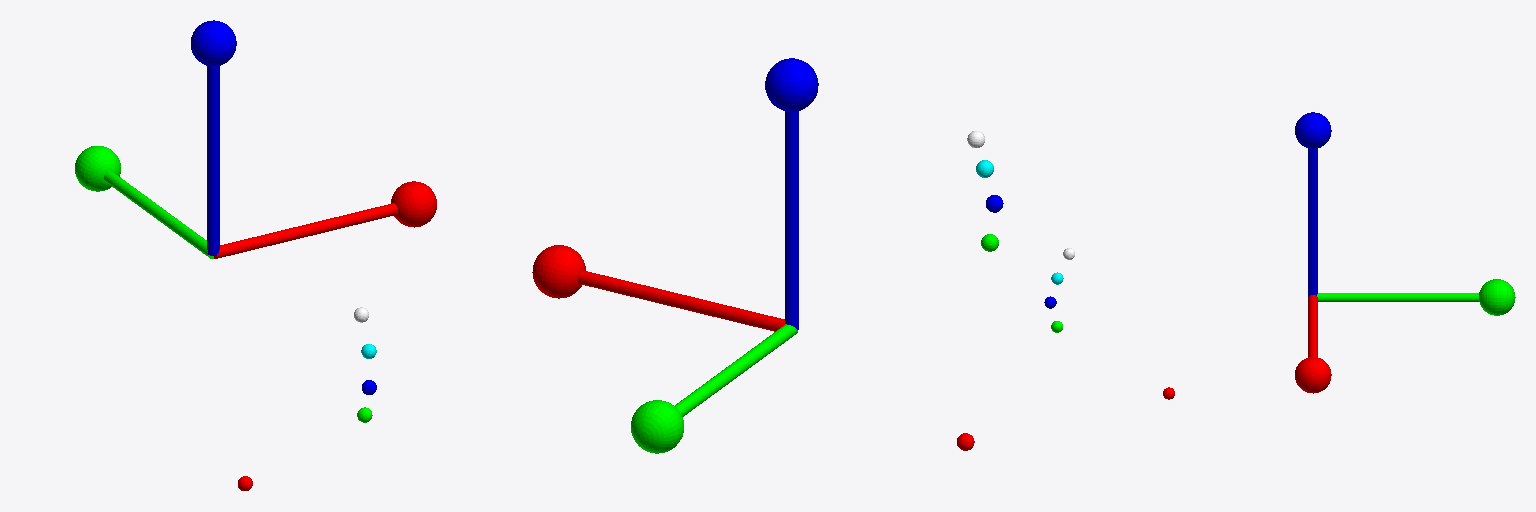
URDF robot description (inspire_hand_right):
<robot name="inspire_hand_right">

  <mujoco>
    <compiler meshdir="./meshes" discardvisual="false" />
  </mujoco>

  <link name="R_hand_base_link">
    <inertial>
      <origin xyz="-0.0025264 -0.066047 0.0019598" rpy="0 0 0" />
      <mass value="0.14143" />
      <inertia ixx="0.00012281" ixy="2.1711E-06" ixz="1.7709E-06" iyy="8.3832E-05" iyz="-1.6551E-06" izz="7.6663E-05" />
    </inertial>
    <visual>
      <origin xyz="0 0 0" rpy="0 0 0" />
      <geometry>
        <mesh filename="./meshes/R_hand_base_link.STL" />
      </geometry>
      <material name="">
        <color rgba="1.0 1.0 1.0 1" />
      </material>
    </visual>
    <collision>
      <origin xyz="0 0 0" rpy="0 0 0" />
      <geometry>
        <mesh filename="./meshes/R_hand_base_link.STL" />
      </geometry>
    </collision>
    <visual>
      <origin xyz="0.075 0 0" rpy="0 -1.5708 0"/>
      <geometry>
        <cylinder length="0.15" radius="0.004"/>
      </geometry>
      <material name="red">
        <color rgba="1 0 0 1"/>
      </material>
    </visual>
    <visual>
      <origin xyz="0.15 0 0" rpy="0 -1.5708 0"/>
      <geometry>
        <sphere radius="0.015"/>
      </geometry>
      <material name="red">
        <color rgba="1 0 0 1"/>
      </material>
    </visual>

    <visual>
      <origin xyz="0 0.075 0" rpy="1.5708 0 0"/>
      <geometry>
        <cylinder length="0.15" radius="0.004"/>
      </geometry>
      <material name="green">
        <color rgba="0 1 0 1"/>
      </material>
    </visual>
    <visual>
      <origin xyz="0 0.15 0" rpy="1.5708 0 0"/>
      <geometry>
        <sphere radius="0.015"/>
      </geometry>
      <material name="green">
        <color rgba="0 1 0 1"/>
      </material>
    </visual>

    <visual>
      <origin xyz="0 0 0.075" rpy="0 0 0"/>
      <geometry>
        <cylinder length="0.15" radius="0.004"/>
      </geometry>
      <material name="blue">
        <color rgba="0 0 1 1"/>
      </material>
    </visual>
    <visual>
      <origin xyz="0 0 0.15" rpy="0 0 0"/>
      <geometry>
        <sphere radius="0.015"/>
      </geometry>
      <material name="blue">
        <color rgba="0 0 1 1"/>
      </material>
    </visual>
  </link>

  <link name="R_thumb_proximal_base">
    <inertial>
      <origin xyz="-0.0048064 0.0009382 -0.00757" rpy="0 0 0" />
      <mass value="0.0018869" />
      <inertia ixx="5.816E-08" ixy="1.4539E-08" ixz="4.491E-09" iyy="7.9161E-08" iyz="-1.8727E-09" izz="6.7433E-08" />
    </inertial>
    <visual>
      <origin xyz="0 0 0" rpy="0 0 0" />
      <geometry>
        <mesh filename="./meshes/Link11_R.STL" />
      </geometry>
      <material name="">
        <color rgba="1.0 1.0 1.0 1" />
      </material>
    </visual>
    <collision>
      <origin xyz="0 0 0" rpy="0 0 0" />
      <geometry>
        <mesh filename="./meshes/Link11_R.STL" />
      </geometry>
    </collision>
  </link>

  <joint name="R_thumb_proximal_yaw_joint" type="revolute">
    <origin xyz="-0.01696 -0.0691 -0.02045" rpy="1.5708 -1.5708 0" />
    <parent link="R_hand_base_link" />
    <child link="R_thumb_proximal_base" />
    <axis xyz="0 0 -1" />
    <limit lower="-0.1" upper="1.3" effort="1" velocity="0.5" />
  </joint>

  <link name="R_thumb_proximal">
    <inertial>
      <origin xyz="0.021932 0.012785 -0.0080386" rpy="0 0 0" />
      <mass value="0.0066075" />
      <inertia ixx="1.5686E-06" ixy="-7.8296E-07" ixz="8.9143E-10" iyy="1.7353E-06" iyz="-1.0191E-09" izz="2.786E-06" />
    </inertial>
    <visual>
      <origin xyz="0 0 0" rpy="0 0 0" />
      <geometry>
        <mesh filename="./meshes/Link12_R.STL" />
      </geometry>
      <material name="">
        <color rgba="1.0 1.0 1.0 1" />
      </material>
    </visual>
    <collision>
      <origin xyz="0 0 0" rpy="0 0 0" />
      <geometry>
        <mesh filename="./meshes/Link12_R.STL" />
      </geometry>
    </collision>
  </link>

  <joint name="R_thumb_proximal_pitch_joint" type="revolute">
    <origin xyz="-0.0088099 0.010892 -0.00925" rpy="1.5708 0 2.8587" />
    <parent link="R_thumb_proximal_base" />
    <child link="R_thumb_proximal" />
    <axis xyz="0 0 1" />
    <limit lower="0.0" upper="0.5" effort="1" velocity="0.5" />
  </joint>

  <link name="R_thumb_intermediate">
    <inertial>
      <origin xyz="0.0095544 -0.0016282 -0.0071997" rpy="0 0 0" />
      <mass value="0.0037847" />
      <inertia ixx="3.6981E-07" ixy="-9.8581E-08" ixz="-4.7469E-12" iyy="3.2394E-07" iyz="1.0939E-12" izz="4.6531E-07" />
    </inertial>
    <visual>
      <origin xyz="0 0 0" rpy="0 0 0" />
      <geometry>
        <mesh filename="./meshes/Link13_R.STL" />
      </geometry>
      <material name="">
        <color rgba="1.0 1.0 1.0 1" />
      </material>
    </visual>
    <collision>
      <origin xyz="0 0 0" rpy="0 0 0" />
      <geometry>
        <mesh filename="./meshes/Link13_R.STL" />
      </geometry>
    </collision>
  </link>

  <joint name="R_thumb_intermediate_joint" type="revolute">
    <origin xyz="0.04407 0.034553 -0.0008" rpy="0 0 0" />
    <parent link="R_thumb_proximal" />
    <child link="R_thumb_intermediate" />
    <axis xyz="0 0 1" />
    <limit lower="0" upper="0.8" effort="1" velocity="0.5" />
    <mimic joint="R_thumb_proximal_pitch_joint" multiplier="1.6" offset="0" />
  </joint>

  <link name="R_thumb_distal">
    <inertial>
      <origin xyz="0.0092888 0.0049529 -0.0060033" rpy="0 0 0" />
      <mass value="0.0033441" />
      <inertia ixx="1.3632E-07" ixy="-5.6788E-08" ixz="-9.2764E-11" iyy="1.4052E-07" iyz="-1.2283E-10" izz="2.0026E-07" />
    </inertial>
    <visual>
      <origin xyz="0 0 0" rpy="0 0 0" />
      <geometry>
        <mesh filename="./meshes/Link14_R.STL" />
      </geometry>
      <material name="">
        <color rgba="1.0 1.0 1.0 1" />
      </material>
    </visual>
    <collision>
      <origin xyz="0 0 0" rpy="0 0 0" />
      <geometry>
        <mesh filename="./meshes/Link14_R.STL" />
      </geometry>
    </collision>
  </link>

  <joint name="R_thumb_distal_joint" type="revolute">
    <origin xyz="0.020248 0.010156 -0.0012" rpy="0 0 0" />
    <parent link="R_thumb_intermediate" />
    <child link="R_thumb_distal" />
    <axis xyz="0 0 1" />
    <limit lower="0" upper="1.2" effort="1" velocity="0.5" />
    <mimic joint="R_thumb_proximal_pitch_joint" multiplier="2.4" offset="0" />
  </joint>

  <link name="R_thumb_tip">
    <visual>
      <origin xyz="0 0 0" rpy="0 0 0" />
      <geometry>
        <sphere radius="0.005"/>
      </geometry>
      <material name="red">
        <color rgba="1 0 0 1" />
      </material>
    </visual>
  </link>
  <joint name="R_thumb_tip_joint" type="fixed">
    <parent link="R_thumb_distal"/>
    <child link="R_thumb_tip"/>
    <origin rpy="0 0 0" xyz="0.015 0.013 -0.004"/>
  </joint>

  <link name="R_index_proximal">
    <inertial>
      <origin xyz="0.0012259 0.011942 -0.0060001" rpy="0 0 0" />
      <mass value="0.0042403" />
      <inertia ixx="6.6232E-07" ixy="-1.5775E-08" ixz="1.8515E-12" iyy="2.1146E-07" iyz="-5.0828E-12" izz="6.9398E-07" />
    </inertial>
    <visual>
      <origin xyz="0 0 0" rpy="0 0 0" />
      <geometry>
        <mesh filename="./meshes/Link15_R.STL" />
      </geometry>
      <material name="">
        <color rgba="1.0 1.0 1.0 1" />
      </material>
    </visual>
    <collision>
      <origin xyz="0 0 0" rpy="0 0 0" />
      <geometry>
        <mesh filename="./meshes/Link15_R.STL" />
      </geometry>
    </collision>
  </link>

  <joint name="R_index_proximal_joint" type="revolute">
    <origin xyz="0.00028533 -0.13653 -0.032268" rpy="-3.1067 0 0" />
    <parent link="R_hand_base_link" />
    <child link="R_index_proximal" />
    <axis xyz="0 0 1" />
    <limit lower="0" upper="1.7" effort="1" velocity="0.5" />
  </joint>

  <link name="R_index_intermediate">
    <inertial>
      <origin xyz="0.0019697 0.019589 -0.005" rpy="0 0 0" />
      <mass value="0.0045683" />
      <inertia ixx="7.6111E-07" ixy="8.7637E-08" ixz="-3.7751E-13" iyy="9.6076E-08" iyz="9.9444E-13" izz="7.8179E-07" />
    </inertial>
    <visual>
      <origin xyz="0 0 0" rpy="0 0 0" />
      <geometry>
        <mesh filename="./meshes/Link16_R.STL" />
      </geometry>
      <material name="">
        <color rgba="1.0 1.0 1.0 1" />
      </material>
    </visual>
    <collision>
      <origin xyz="0 0 0" rpy="0 0 0" />
      <geometry>
        <mesh filename="./meshes/Link16_R.STL" />
      </geometry>
    </collision>
  </link>

  <joint name="R_index_intermediate_joint" type="revolute">
    <origin xyz="-0.0026138 0.032026 -0.001" rpy="0 0 0" />
    <parent link="R_index_proximal" />
    <child link="R_index_intermediate" />
    <axis xyz="0 0 1" />
    <limit lower="0" upper="1.7" effort="1" velocity="0.5" />
    <mimic joint="R_index_proximal_joint" multiplier="1" offset="0" />
  </joint>

  <link name="R_index_tip">
    <visual>
      <origin xyz="0 0 0" rpy="0 0 0" />
      <geometry>
        <sphere radius="0.005"/>
      </geometry>
      <material name="green">
        <color rgba="0 1 0 1" />
      </material>
    </visual>
  </link>
  <joint name="R_index_tip_joint" type="fixed">
    <parent link="R_index_intermediate"/>
    <child link="R_index_tip"/>
    <origin rpy="0 0 0" xyz="-0.005 0.04 -0.004"/>
  </joint>

  <link name="R_middle_proximal">
    <inertial>
      <origin xyz="0.001297 0.011934 -0.0060001" rpy="0 0 0" />
      <mass value="0.0042403" />
      <inertia ixx="6.6211E-07" ixy="-1.8461E-08" ixz="1.8002E-12" iyy="2.1167E-07" iyz="-6.6808E-12" izz="6.9397E-07" />
    </inertial>
    <visual>
      <origin xyz="0 0 0" rpy="0 0 0" />
      <geometry>
        <mesh filename="./meshes/Link17_R.STL" />
      </geometry>
      <material name="">
        <color rgba="1.0 1.0 1.0 1" />
      </material>
    </visual>
    <collision>
      <origin xyz="0 0 0" rpy="0 0 0" />
      <geometry>
        <mesh filename="./meshes/Link17_R.STL" />
      </geometry>
    </collision>
  </link>

  <joint name="R_middle_proximal_joint" type="revolute">
    <origin xyz="0.00028533 -0.1371 -0.01295" rpy="-3.1416 0 0" />
    <parent link="R_hand_base_link" />
    <child link="R_middle_proximal" />
    <axis xyz="0 0 1" />
    <limit lower="0" upper="1.7" effort="1" velocity="0.5" />
  </joint>

  <link name="R_middle_intermediate">
    <inertial>
      <origin xyz="0.001921 0.020796 -0.005" rpy="0 0 0" />
      <mass value="0.0050396" />
      <inertia ixx="9.5822E-07" ixy="1.1425E-07" ixz="-2.4791E-12" iyy="1.0646E-07" iyz="5.9173E-12" izz="9.8384E-07" />
    </inertial>
    <visual>
      <origin xyz="0 0 0" rpy="0 0 0" />
      <geometry>
        <mesh filename="./meshes/Link18_R.STL" />
      </geometry>
      <material name="">
        <color rgba="1.0 1.0 1.0 1" />
      </material>
    </visual>
    <collision>
      <origin xyz="0 0 0" rpy="0 0 0" />
      <geometry>
        <mesh filename="./meshes/Link18_R.STL" />
      </geometry>
    </collision>
  </link>

  <joint name="R_middle_intermediate_joint" type="revolute">
    <origin xyz="-0.0024229 0.032041 -0.001" rpy="0 0 0" />
    <parent link="R_middle_proximal" />
    <child link="R_middle_intermediate" />
    <axis xyz="0 0 1" />
    <limit lower="0" upper="1.7" effort="1" velocity="0.5" />
    <mimic joint="R_middle_proximal_joint" multiplier="1" offset="0" />
  </joint>

  <link name="R_middle_tip">
    <visual>
      <origin xyz="0 0 0" rpy="0 0 0" />
      <geometry>
        <sphere radius="0.005"/>
      </geometry>
      <material name="blue">
        <color rgba="0 0 1 1" />
      </material>
    </visual>
  </link>
  <joint name="R_middle_tip_joint" type="fixed">
    <parent link="R_middle_intermediate"/>
    <child link="R_middle_tip"/>
    <origin rpy="0 0 0" xyz="-0.005 0.045 -0.004"/>
  </joint>

  <link name="R_ring_proximal">
    <inertial>
      <origin xyz="0.001297 0.011934 -0.0060002" rpy="0 0 0" />
      <mass value="0.0042403" />
      <inertia ixx="6.6211E-07" ixy="-1.8461E-08" ixz="1.5793E-12" iyy="2.1167E-07" iyz="-6.6868E-12" izz="6.9397E-07" />
    </inertial>
    <visual>
      <origin xyz="0 0 0" rpy="0 0 0" />
      <geometry>
        <mesh filename="./meshes/Link19_R.STL" />
      </geometry>
      <material name="">
        <color rgba="1.0 1.0 1.0 1" />
      </material>
    </visual>
    <collision>
      <origin xyz="0 0 0" rpy="0 0 0" />
      <geometry>
        <mesh filename="./meshes/Link19_R.STL" />
      </geometry>
    </collision>
  </link>

  <joint name="R_ring_proximal_joint" type="revolute">
    <origin xyz="0.00028533 -0.13691 0.0062872" rpy="3.0892 0 0" />
    <parent link="R_hand_base_link" />
    <child link="R_ring_proximal" />
    <axis xyz="0 0 1" />
    <limit lower="0" upper="1.7" effort="1" velocity="0.5" />
  </joint>

  <link name="R_ring_intermediate">
    <inertial>
      <origin xyz="0.0021753 0.019567 -0.005" rpy="0 0 0" />
      <mass value="0.0045683" />
      <inertia ixx="7.6286E-07" ixy="8.0635E-08" ixz="-6.1562E-13" iyy="9.431E-08" iyz="5.8619E-13" izz="7.8177E-07" />
    </inertial>
    <visual>
      <origin xyz="0 0 0" rpy="0 0 0" />
      <geometry>
        <mesh filename="./meshes/Link20_R.STL" />
      </geometry>
      <material name="">
        <color rgba="1.0 1.0 1.0 1" />
      </material>
    </visual>
    <collision>
      <origin xyz="0 0 0" rpy="0 0 0" />
      <geometry>
        <mesh filename="./meshes/Link20_R.STL" />
      </geometry>
    </collision>
  </link>

  <joint name="R_ring_intermediate_joint" type="revolute">
    <origin xyz="-0.0024229 0.032041 -0.001" rpy="0 0 0" />
    <parent link="R_ring_proximal" />
    <child link="R_ring_intermediate" />
    <axis xyz="0 0 1" />
    <limit lower="0" upper="1.7" effort="1" velocity="0.5" />
    <mimic joint="R_ring_proximal_joint" multiplier="1" offset="0" />
  </joint>

  <link name="R_ring_tip">
    <visual>
      <origin xyz="0 0 0" rpy="0 0 0" />
      <geometry>
        <sphere radius="0.005"/>
      </geometry>
      <material name="cyan">
        <color rgba="0 1 1 1" />
      </material>
    </visual>
  </link>
  <joint name="R_ring_tip_joint" type="fixed">
    <parent link="R_ring_intermediate"/>
    <child link="R_ring_tip"/>
    <origin rpy="0 0 0" xyz="-0.002 0.04 -0.004"/>
  </joint>

  <link name="R_pinky_proximal">
    <inertial>
      <origin xyz="0.001297 0.011934 -0.0060001" rpy="0 0 0" />
      <mass value="0.0042403" />
      <inertia ixx="6.6211E-07" ixy="-1.8461E-08" ixz="1.6907E-12" iyy="2.1167E-07" iyz="-6.9334E-12" izz="6.9397E-07" />
    </inertial>
    <visual>
      <origin xyz="0 0 0" rpy="0 0 0" />
      <geometry>
        <mesh filename="./meshes/Link21_R.STL" />
      </geometry>
      <material name="">
        <color rgba="1.0 1.0 1.0 1" />
      </material>
    </visual>
    <collision>
      <origin xyz="0 0 0" rpy="0 0 0" />
      <geometry>
        <mesh filename="./meshes/Link21_R.STL" />
      </geometry>
    </collision>
  </link>

  <joint name="R_pinky_proximal_joint" type="revolute">
    <origin xyz="0.00028533 -0.13571 0.025488" rpy="3.0369 0 0" />
    <parent link="R_hand_base_link" />
    <child link="R_pinky_proximal" />
    <axis xyz="0 0 1" />
    <limit lower="0" upper="1.7" effort="1" velocity="0.5" />
  </joint>

  <link name="R_pinky_intermediate">
    <inertial>
      <origin xyz="0.0024748 0.016203 -0.0050031" rpy="0 0 0" />
      <mass value="0.0035996" />
      <inertia ixx="4.3913E-07" ixy="4.1418E-08" ixz="3.7168E-11" iyy="7.0247E-08" iyz="5.8613E-11" izz="4.4867E-07" />
    </inertial>
    <visual>
      <origin xyz="0 0 0" rpy="0 0 0" />
      <geometry>
        <mesh filename="./meshes/Link22_R.STL" />
      </geometry>
      <material name="">
        <color rgba="1.0 1.0 1.0 1" />
      </material>
    </visual>
    <collision>
      <origin xyz="0 0 0" rpy="0 0 0" />
      <geometry>
        <mesh filename="./meshes/Link22_R.STL" />
      </geometry>
    </collision>
  </link>

  <joint name="R_pinky_intermediate_joint" type="revolute">
    <origin xyz="-0.0024229 0.032041 -0.001" rpy="0 0 0" />
    <parent link="R_pinky_proximal" />
    <child link="R_pinky_intermediate" />
    <axis xyz="0 0 1" />
    <limit lower="0" upper="1.7" effort="1" velocity="0.5" />
    <mimic joint="R_pinky_proximal_joint" multiplier="1" offset="0" />
  </joint>

  <link name="R_pinky_tip">
    <visual>
      <origin xyz="0 0 0" rpy="0 0 0" />
      <geometry>
        <sphere radius="0.005"/>
      </geometry>
      <material name="white">
        <color rgba="1 1 1 1" />
      </material>
    </visual>
  </link>
  <joint name="R_pinky_tip_joint" type="fixed">
    <parent link="R_pinky_intermediate"/>
    <child link="R_pinky_tip"/>
    <origin rpy="0 0 0" xyz="-0.002 0.032 -0.004"/>
  </joint>
</robot>

--- Facts derived from the render (not from the file) ---
Views: 3 orthographic renders of the robot side by side, from view 1: azimuth 30°, elevation 25°; view 2: azimuth 150°, elevation 25°; view 3: azimuth 270°, elevation 25°.
Model inspire_hand_right with 18 links and 17 joints (12 revolute, 5 fixed), rooted at R_hand_base_link, posed every joint at zero.
Links seen in each view (by area): view 1: R_hand_base_link; view 2: R_hand_base_link; view 3: R_hand_base_link.
Boxes of the visible links, x1,y1,x2,y2 form: R_hand_base_link: (75,20,436,258); R_hand_base_link: (532,58,818,453); R_hand_base_link: (1295,112,1515,393).
Bounding box of the posed robot: 0.2142 × 0.3841 × 0.2771 m (x, y, z).
0 mesh visuals loaded from 13 distinct referenced files (none loaded); not drawn: 13 (reference not matched to a file when rendering).